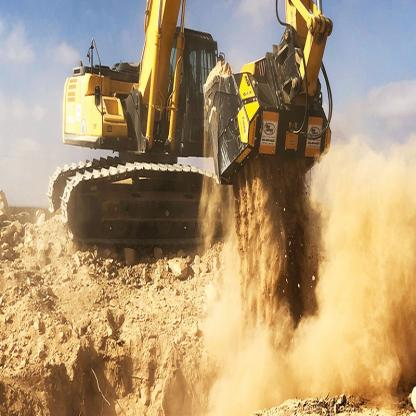excavator: (44, 2, 354, 317)
